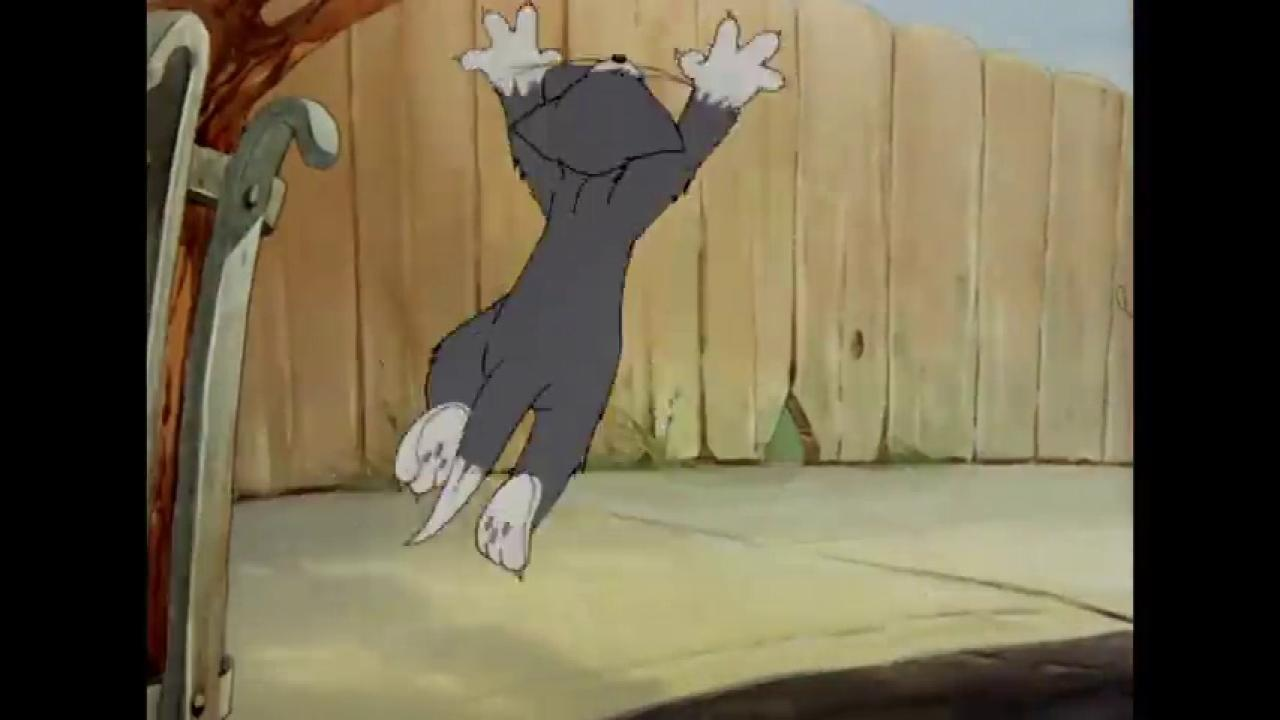Tom: (386, 1, 788, 581)
